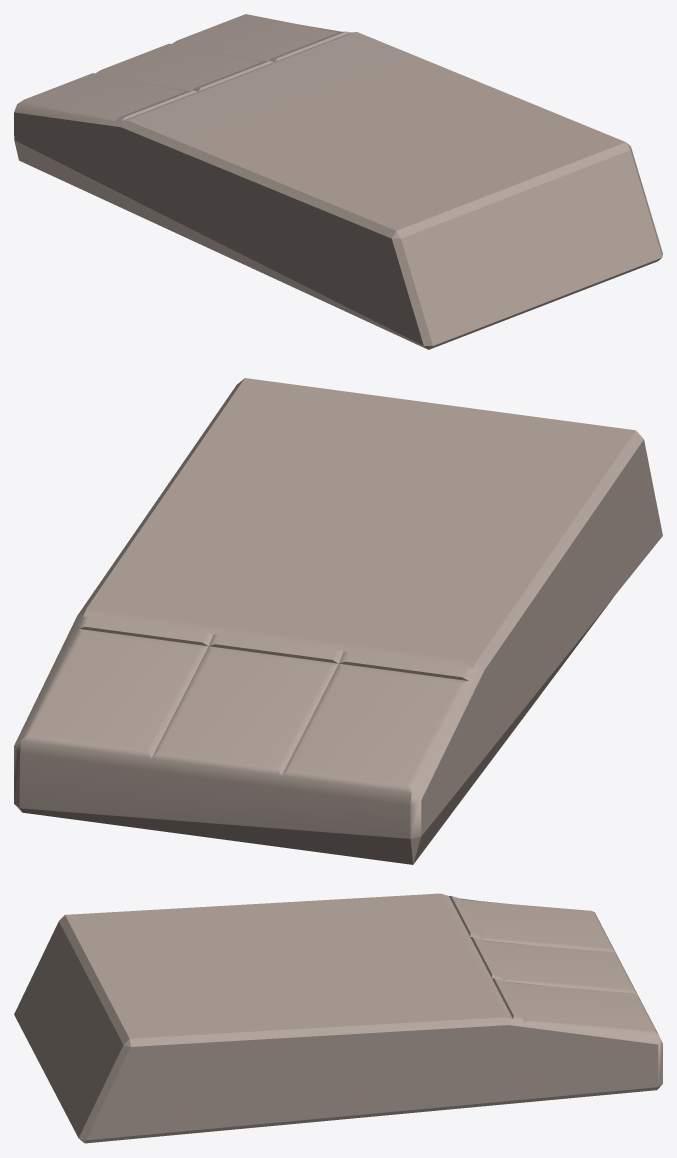
Rendered from Mouse.fbx.
3 renders of one model, top to bottom at view 1: azimuth 30°, elevation 25°; view 2: azimuth 150°, elevation 25°; view 3: azimuth 270°, elevation 25°, orthographic. The views are drawn at different scales.
Visible parts, largest first — view 1: Mouse; view 2: Mouse; view 3: Mouse.
Part boxes in pixels (<box>): Mouse: <box>14,14,662,349</box>; Mouse: <box>14,378,662,864</box>; Mouse: <box>14,893,662,1143</box>.
Size of the model in its own units: 0.00268 by 0.000689 by 0.00403.
